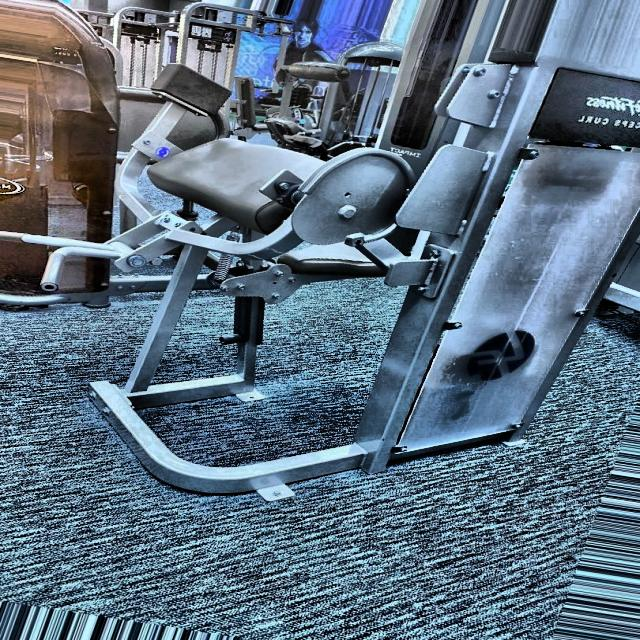bicep_curl_machine: (6, 3, 500, 524), (566, 106, 639, 138)
